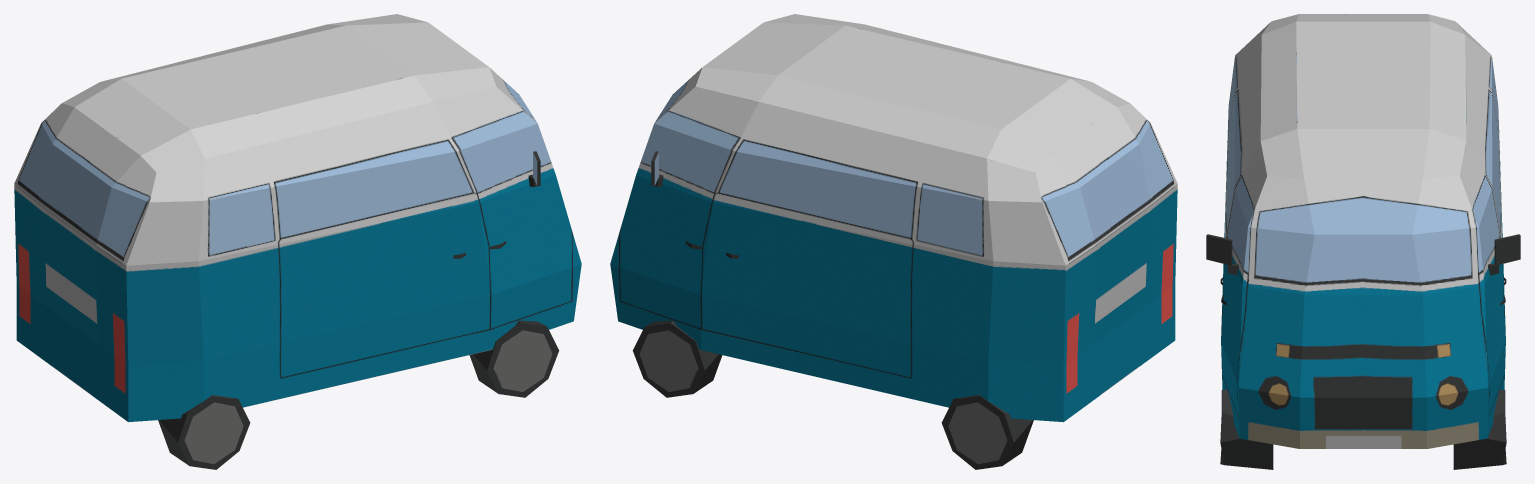
File: KombiLOD0.fbx
3 renders of one model, left to right at view 1: azimuth 30°, elevation 25°; view 2: azimuth 150°, elevation 25°; view 3: azimuth 270°, elevation 25°, orthographic. The views are drawn at different scales.
Visible parts, largest first — view 1: Plane.007; view 2: Plane.007; view 3: Plane.007.
Boxes of the visible parts, x1,y1,x2,y2 form: Plane.007: [14, 14, 581, 469]; Plane.007: [610, 14, 1177, 469]; Plane.007: [1206, 14, 1520, 469].
Size of the model in its own units: 604 by 384 by 361.
1 material, 1 textured.
